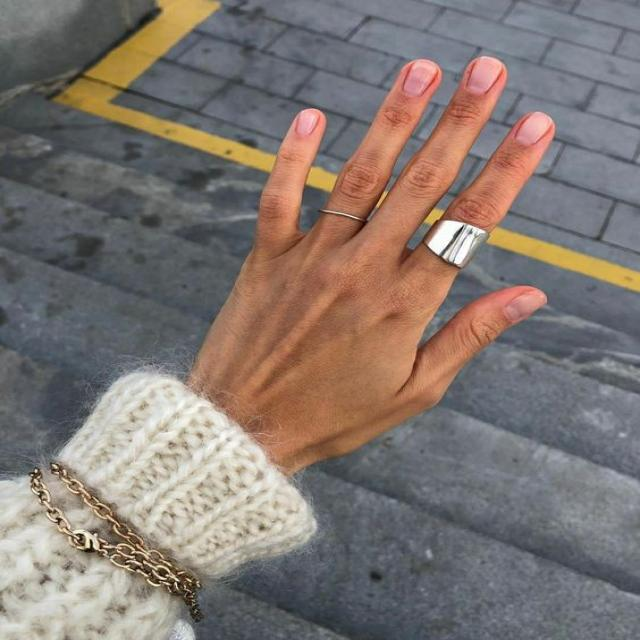Fingernail: (468, 58, 502, 93), (506, 292, 545, 321), (517, 113, 551, 145), (405, 62, 437, 96), (297, 109, 319, 136)
